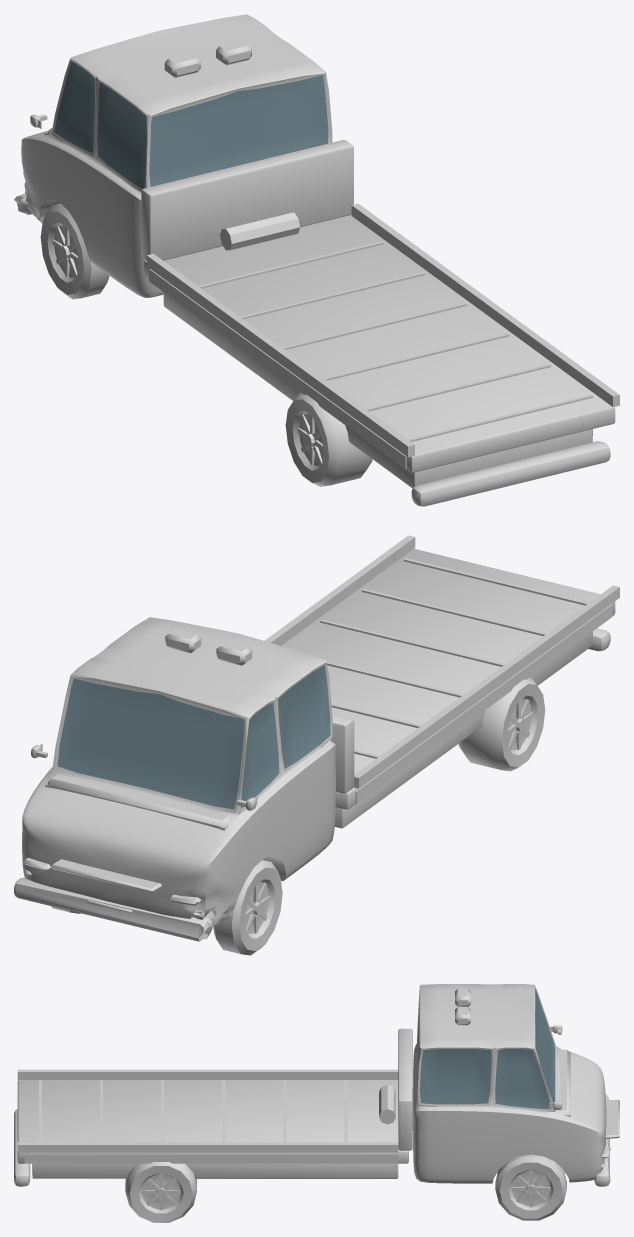
Rendered from car_tow_dmg1.glb.
3 renders of one model, top to bottom at view 1: azimuth 30°, elevation 25°; view 2: azimuth 150°, elevation 25°; view 3: azimuth 270°, elevation 25°, orthographic. The views are drawn at different scales.
Parts seen in each view (by area): view 1: car_tow_dmg1; view 2: car_tow_dmg1; view 3: car_tow_dmg1.
Boxes of the visible parts, x1,y1,x2,y2 form: car_tow_dmg1: (14, 14, 619, 506); car_tow_dmg1: (14, 535, 619, 955); car_tow_dmg1: (14, 984, 619, 1222).
Bounding box in the file's own units: 2.6 × 2.85 × 8.44.
